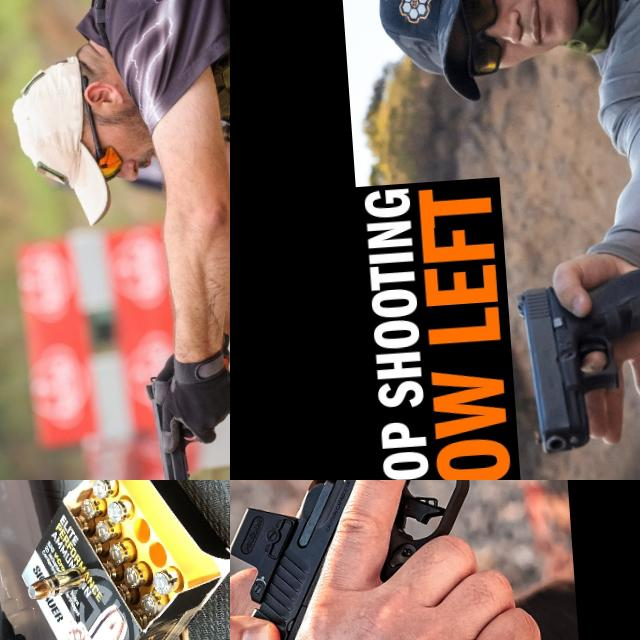handgun: (230, 480, 516, 640), (511, 262, 640, 457), (109, 480, 230, 640), (141, 371, 204, 480)
